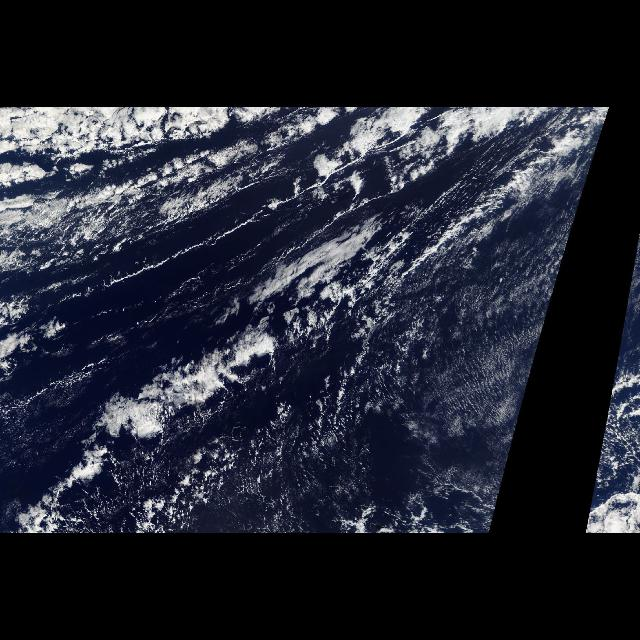Fish: (13, 136, 580, 438)
Sugar: (282, 242, 568, 534), (584, 242, 640, 534)
